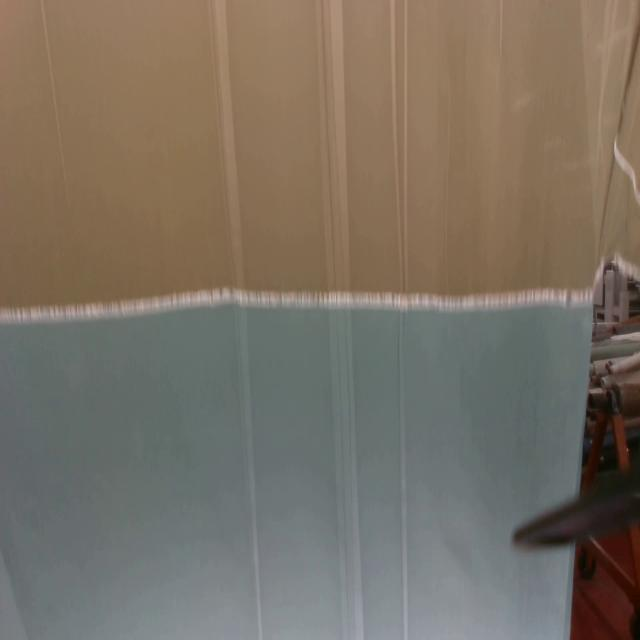crease: (208, 0, 263, 640), (315, 0, 365, 640), (390, 1, 410, 640), (39, 0, 74, 207), (443, 80, 455, 292), (497, 0, 506, 66)
